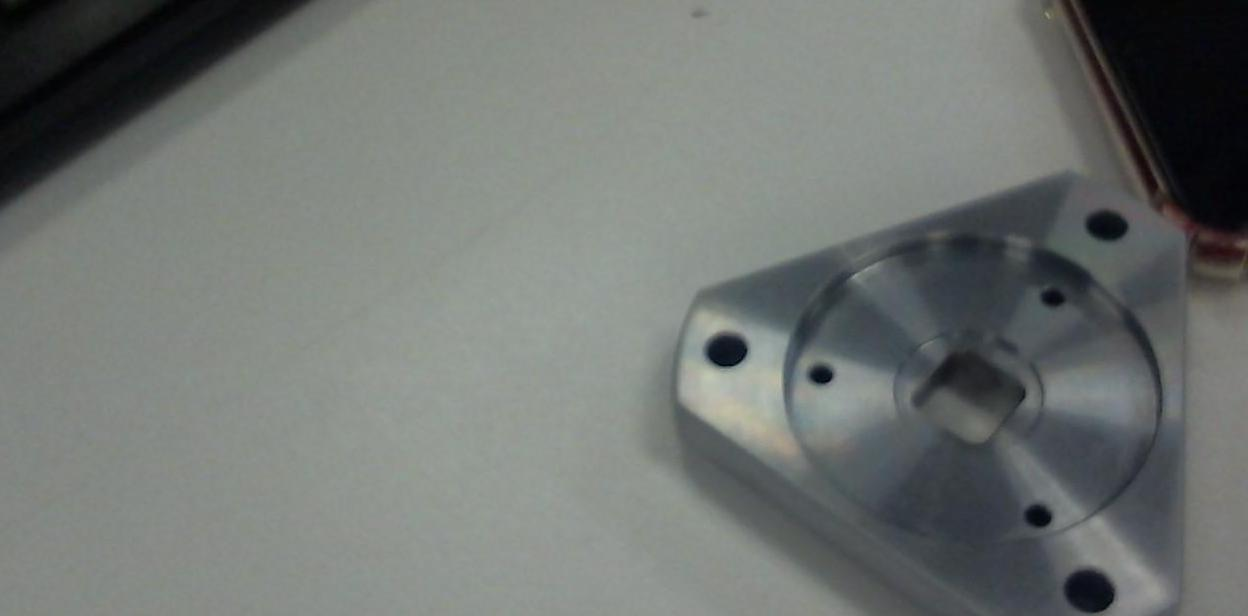hole: (1062, 556, 1123, 616), (1081, 203, 1149, 255), (696, 322, 752, 376), (1018, 492, 1057, 538), (804, 357, 841, 392), (1036, 280, 1074, 312)
